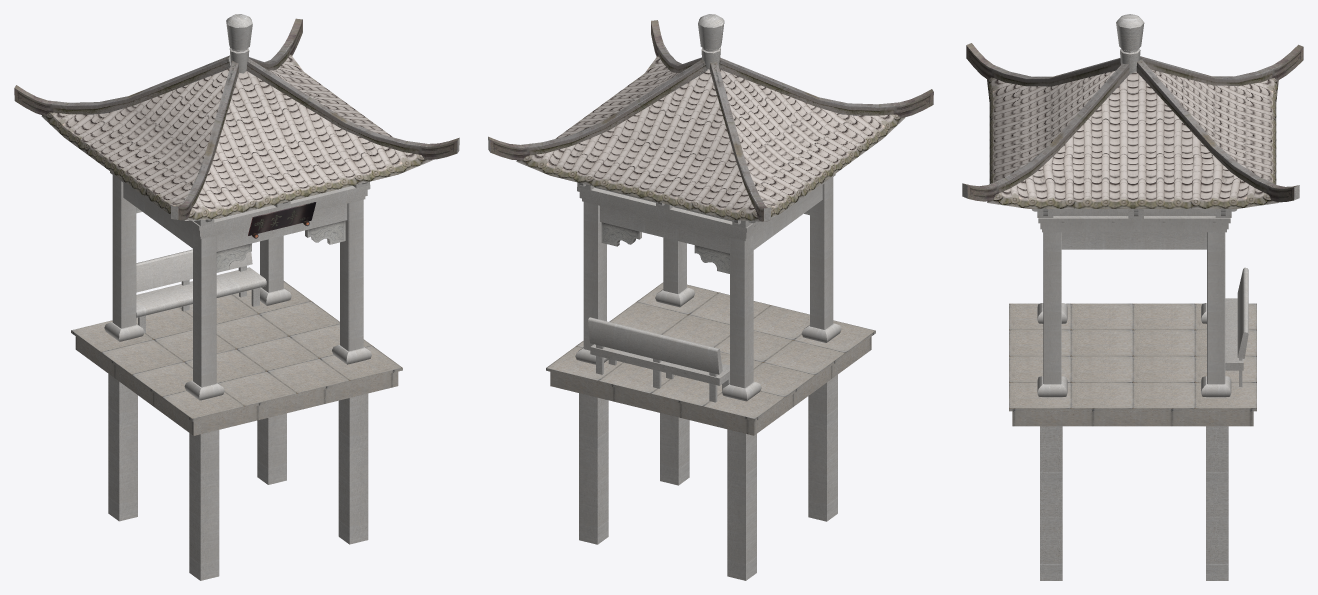
The model's file is Building_Weishiting.FBX.
The picture shows the model from 3 angles, left to right: view 1: azimuth 30°, elevation 25°; view 2: azimuth 150°, elevation 25°; view 3: azimuth 270°, elevation 25°; orthographic projection. The views are drawn at different scales.
Parts seen in each view (by area): view 1: Building_Weishiting; view 2: Building_Weishiting; view 3: Building_Weishiting.
Boxes of the visible parts, x1=… form: Building_Weishiting: x1=14, y1=14, x2=459, y2=580; Building_Weishiting: x1=488, y1=14, x2=933, y2=580; Building_Weishiting: x1=962, y1=14, x2=1303, y2=580.
Bounding box in the file's own units: 567 × 954 × 567.
